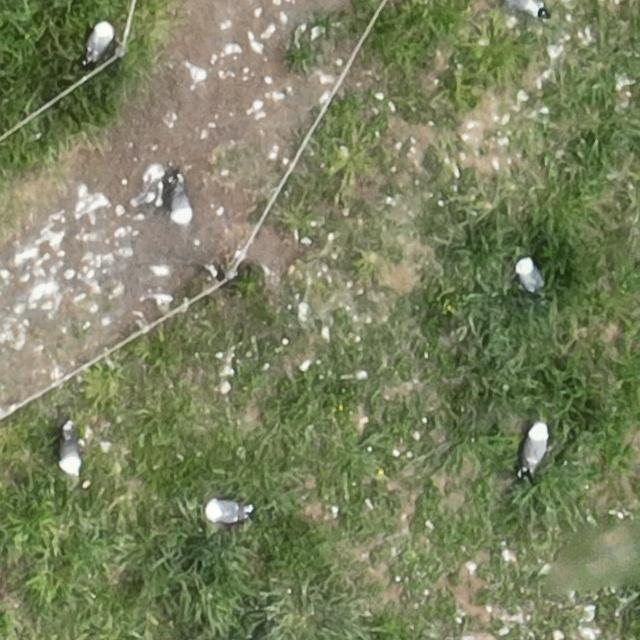umineko: (525, 425, 548, 467), (87, 23, 111, 59), (61, 429, 80, 472), (208, 502, 246, 523), (172, 186, 191, 222), (518, 260, 540, 291), (506, 0, 539, 15)
